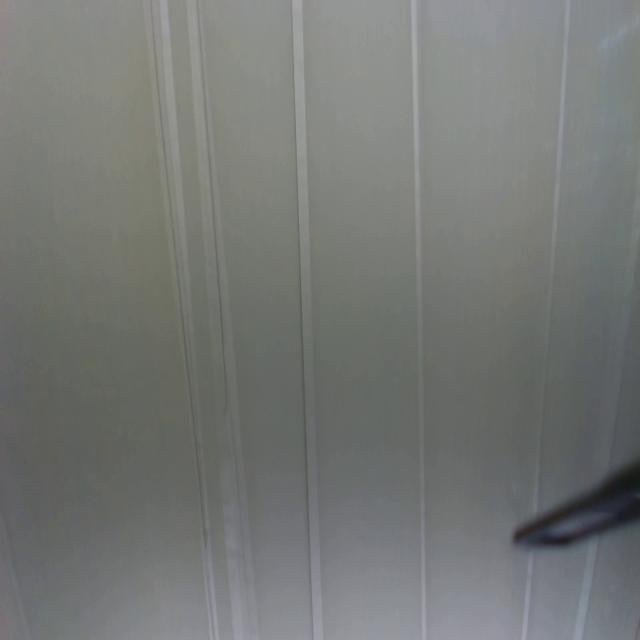crease: (148, 1, 217, 640), (196, 0, 254, 632), (288, 0, 322, 638), (533, 0, 572, 490), (411, 0, 428, 640), (581, 536, 600, 640), (521, 547, 536, 639)
